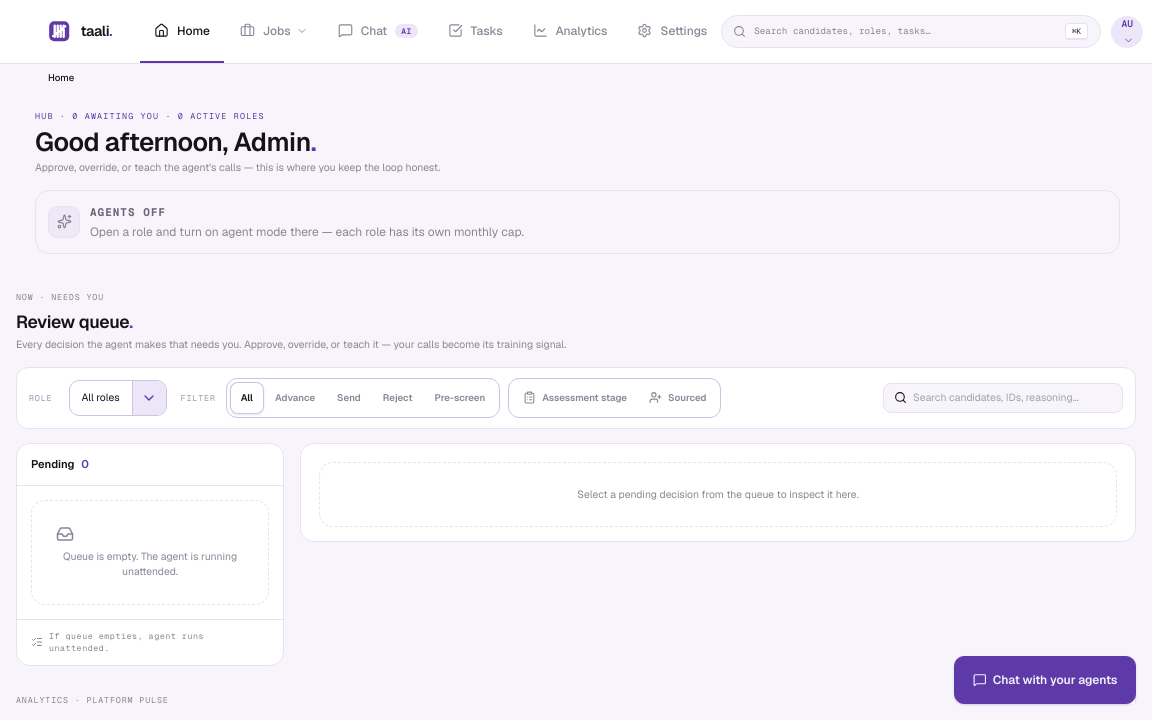
Test case: TasksPage › renders Tasks heading
Click the link "Tasks".
click(475, 30)  # box [448,22,503,38]
(page scrolled)
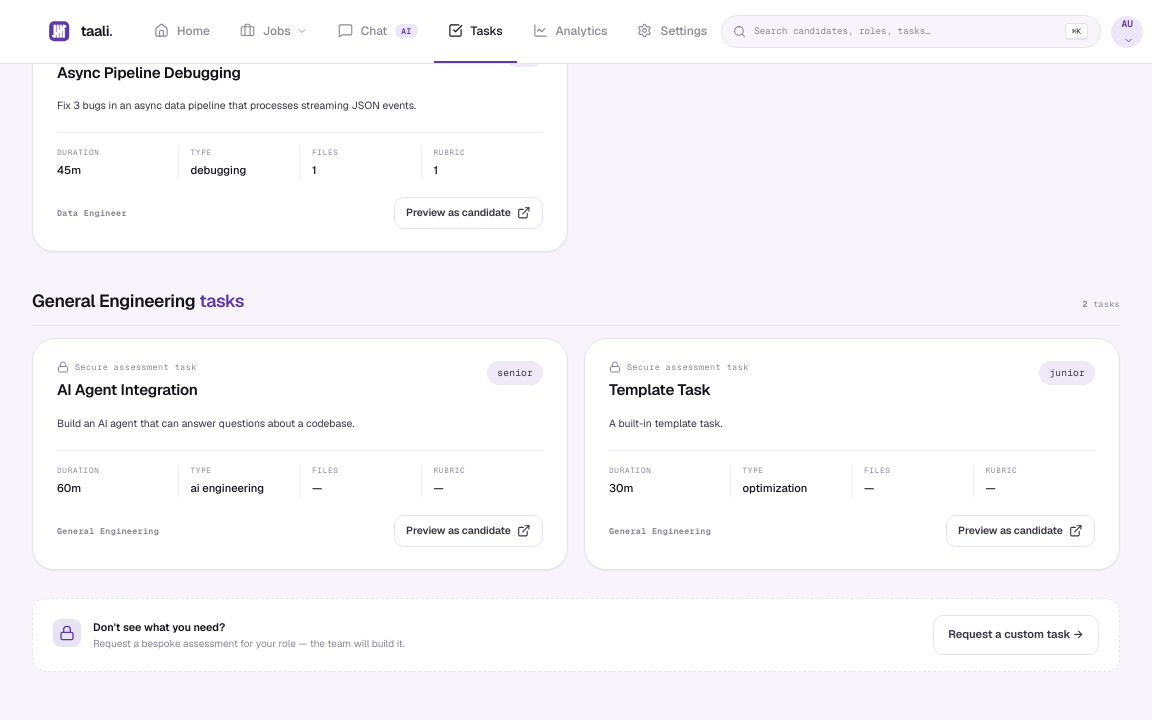
Result: the button "Request a custom task →" is shown at [933,615,1099,655]
